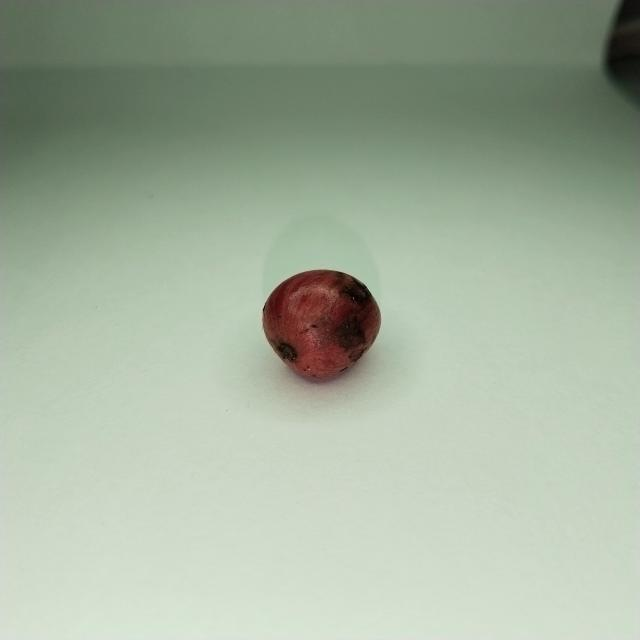Infectado: (262, 269, 380, 382)
